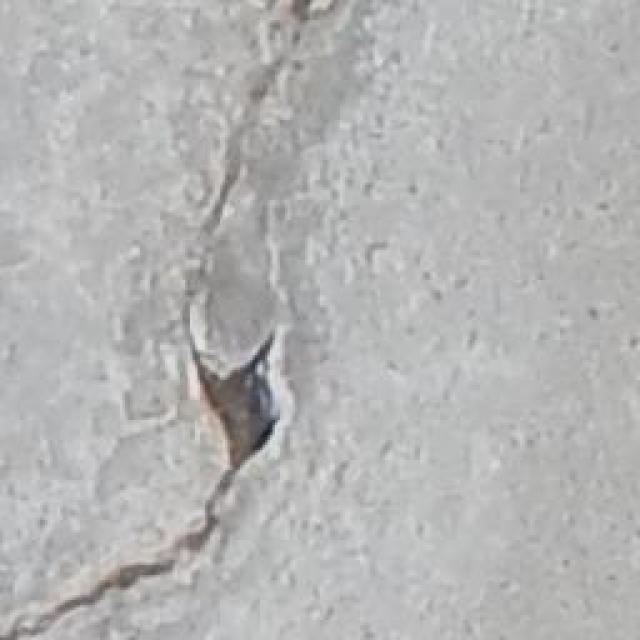concrete-crack: (5, 0, 355, 637)
